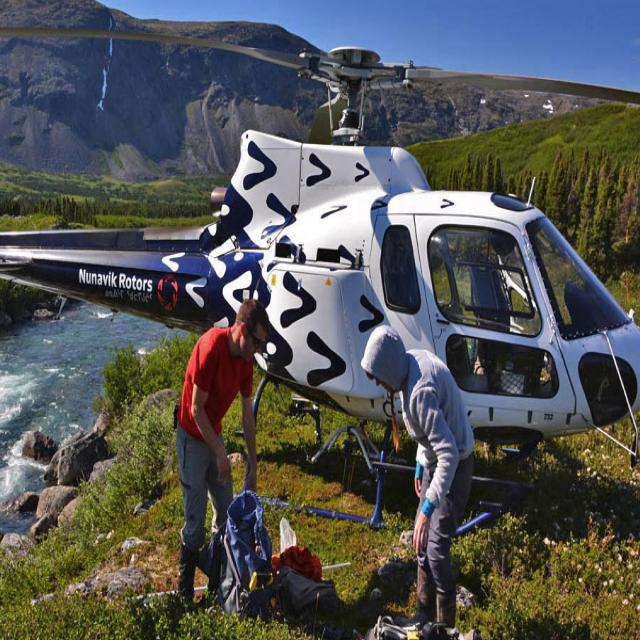helicopter: (1, 25, 640, 560)
